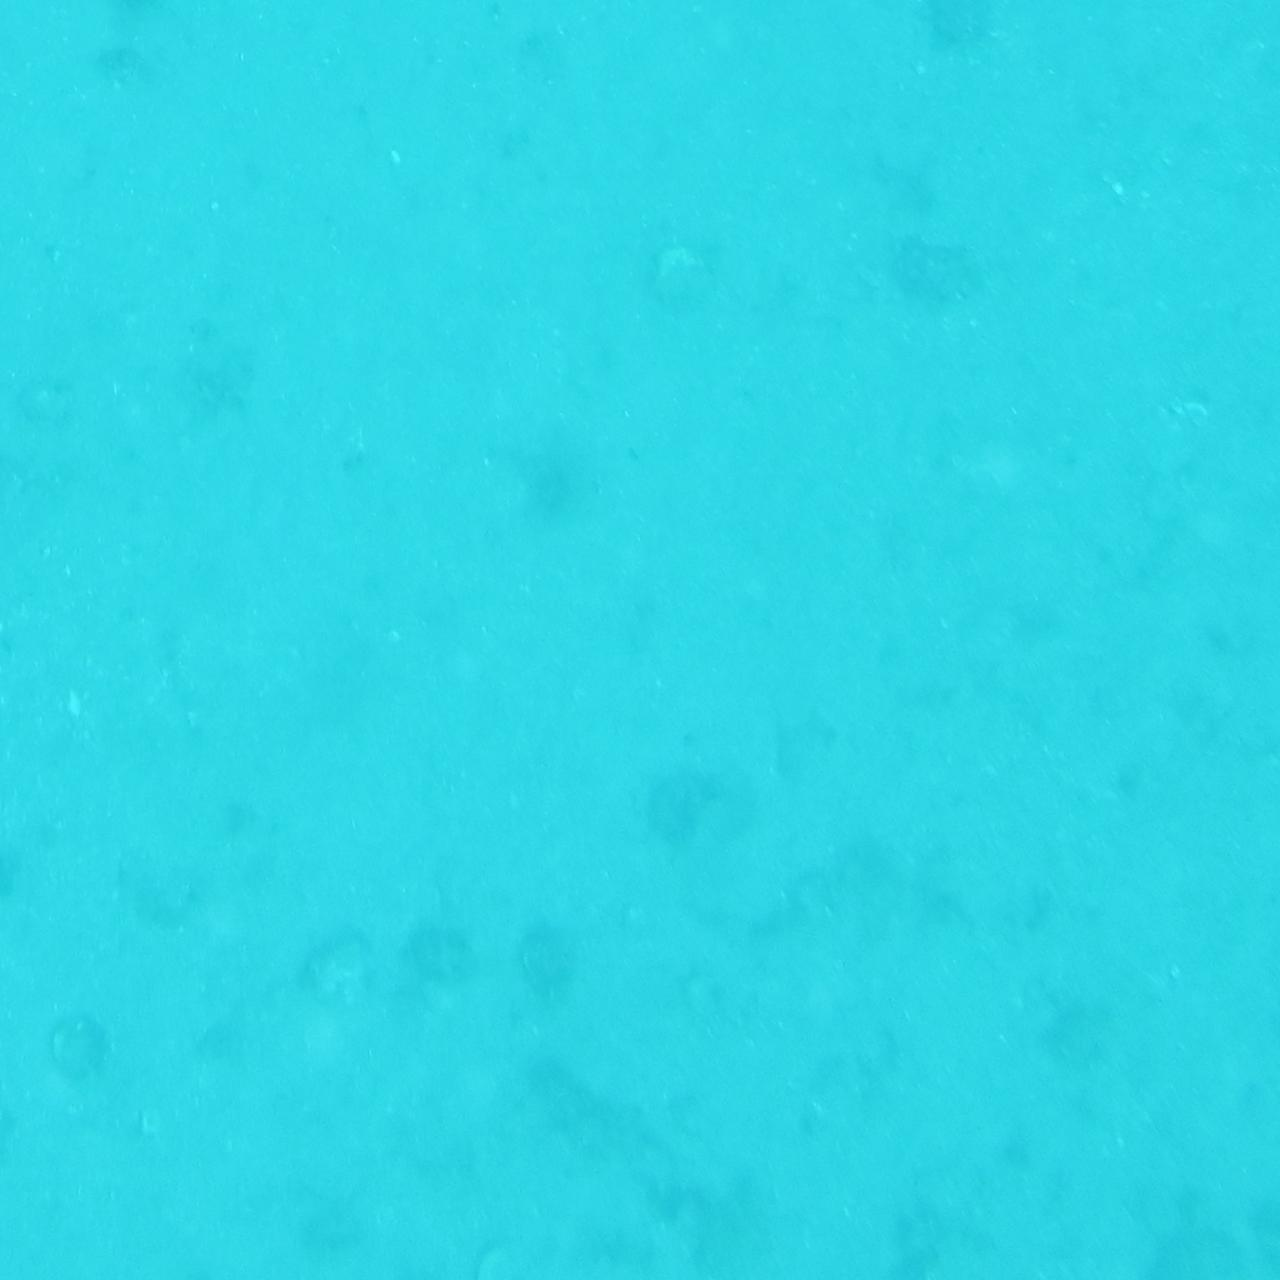Holothuria tubulosa: (522, 1041, 758, 1279)
